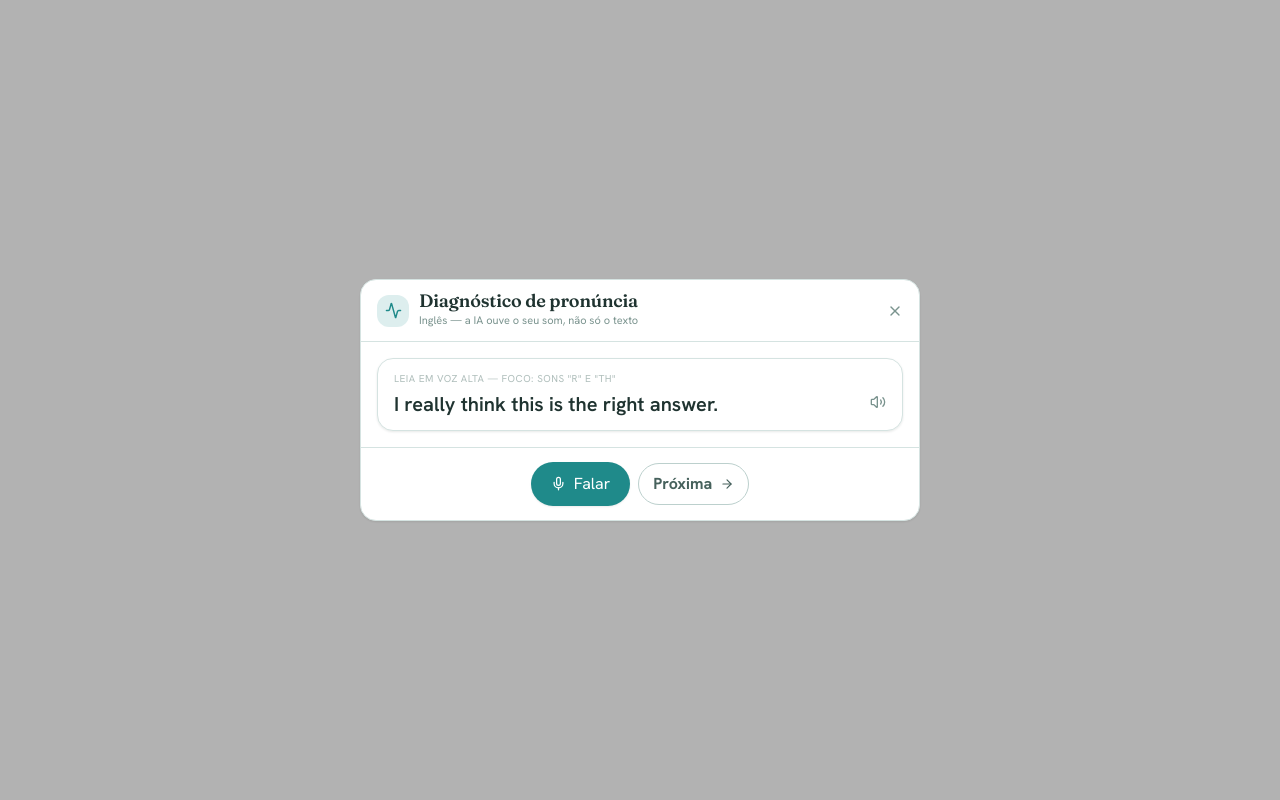
Test: PronunciationDiagnostic › ler a frase certa → score alto + dicas
Click the button "Falar": [580, 484] box left=531, top=462, right=630, bottom=506
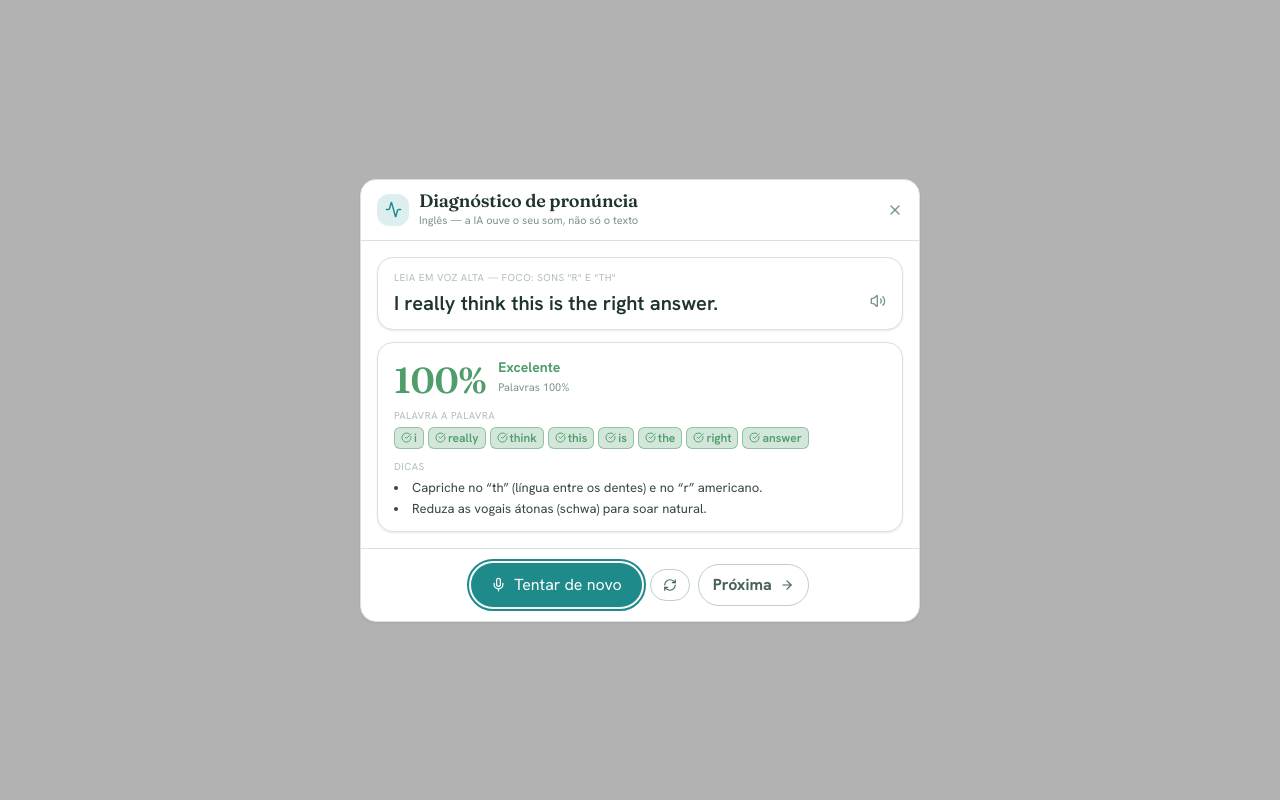
Result: the text "100%" is shown at left=394, top=362, right=486, bottom=398
Result: the text "Excelente" is shown at left=498, top=358, right=560, bottom=376
Result: the text "Dicas" is shown at left=394, top=460, right=425, bottom=472
